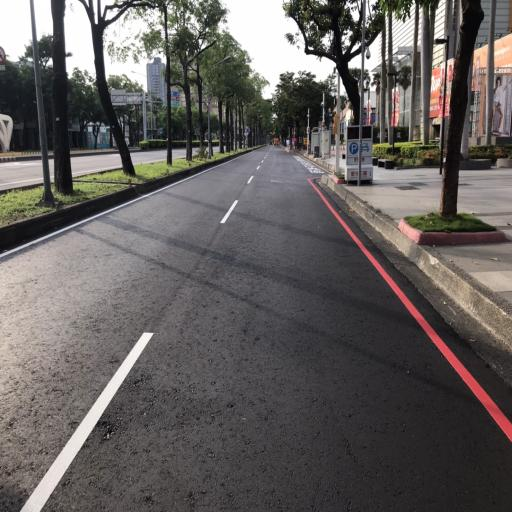redline: (306, 172, 512, 438)
